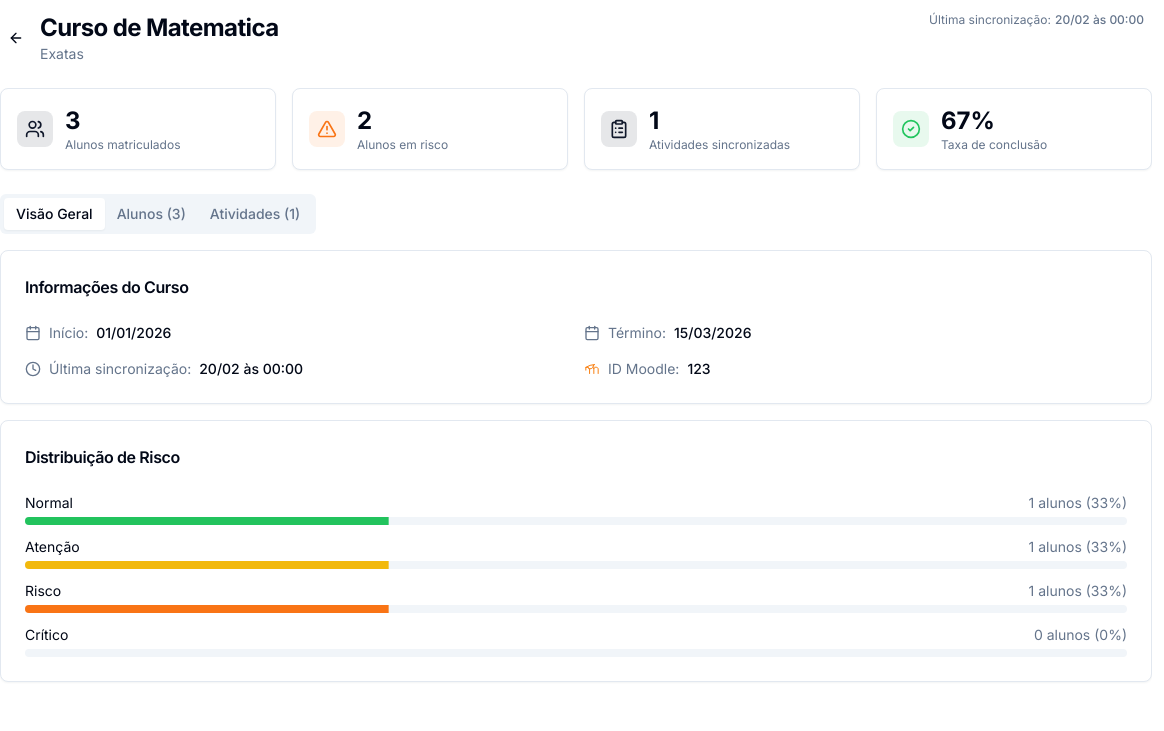
Scenario: CoursePanel page › generates inline suggestions for pending corrections of an assignment activity
Click the tab "Atividades (1)". click: (255, 214)
box: [198,198,312,230]
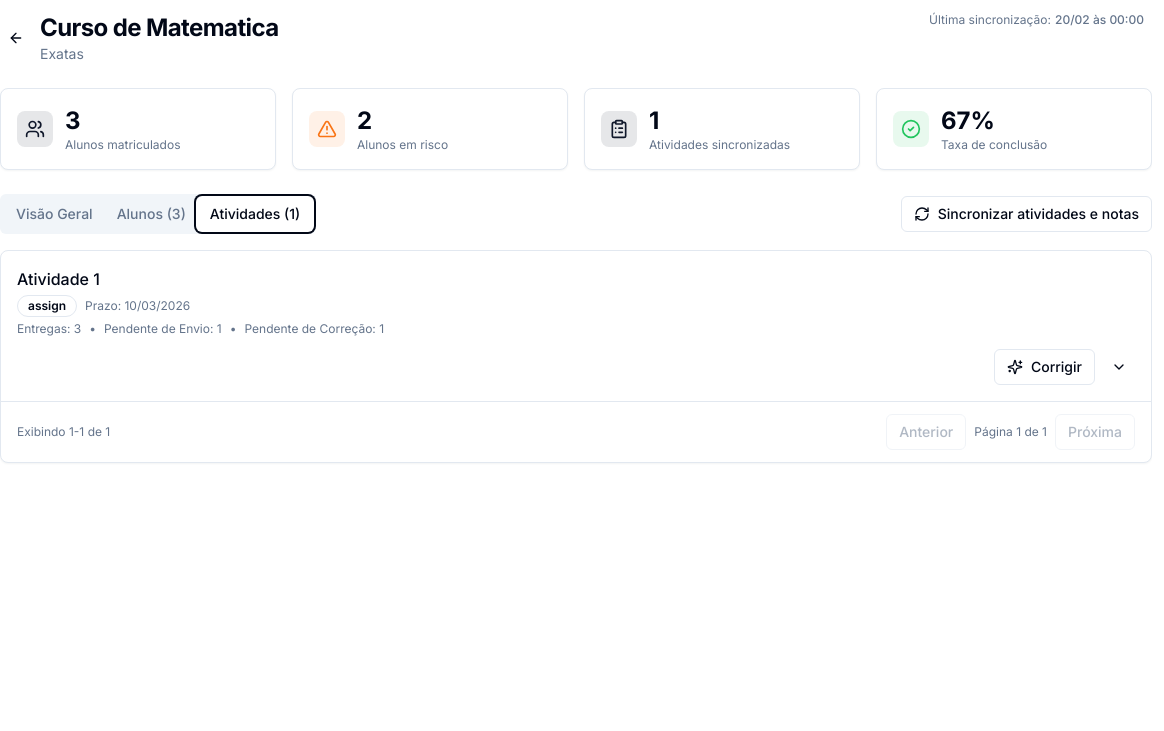
expect the button "Corrigir" is shown: met
Click the button "Corrigir". click: (1044, 367)
box: [994,349,1095,385]
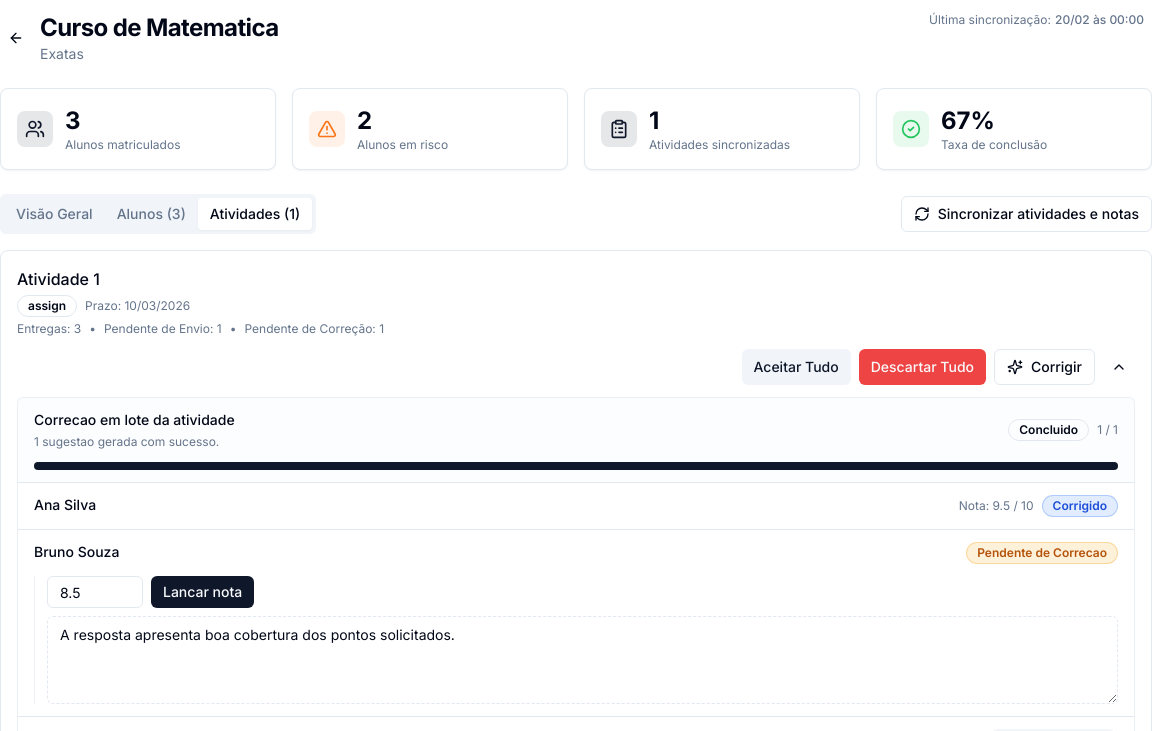
expect the field named "Nota sugerida para Bruno Souza" holds "8.5": met, box [47,576,143,608]
expect the text box named "Feedback sugerido para Bruno Souza" holds "A resposta apresenta boa cobertura dos pontos solicitados.": met, box [47,616,1118,704]
